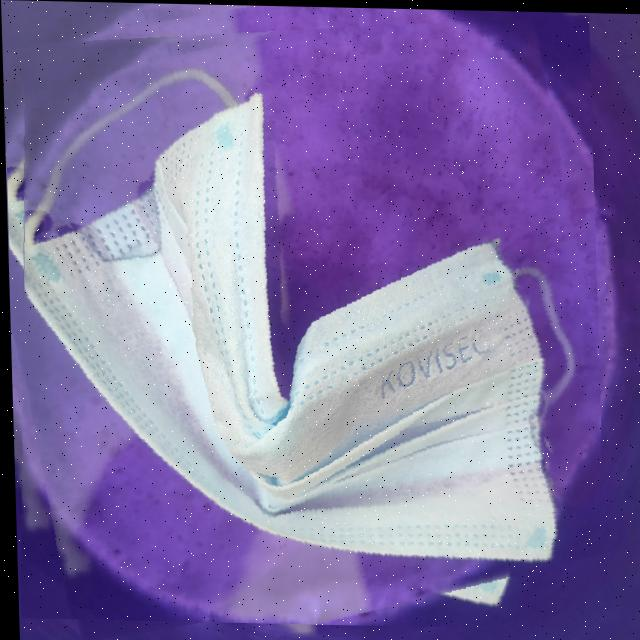litter: (0, 0, 602, 628)
